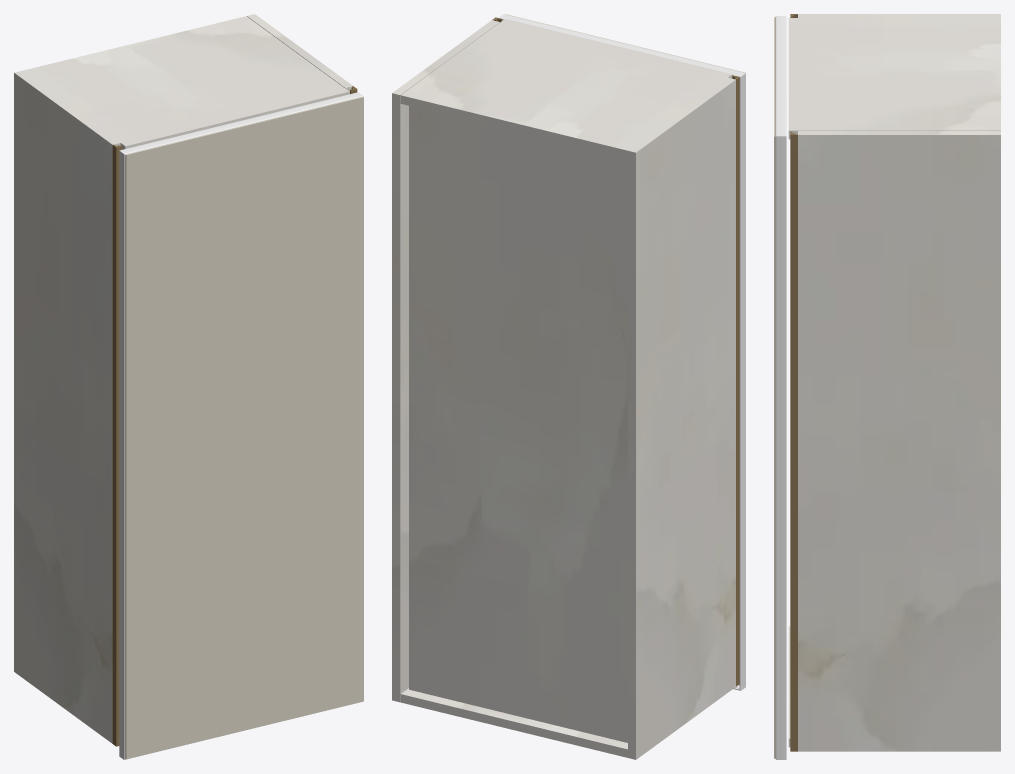
The picture shows the model from 3 angles, left to right: view 1: azimuth 30°, elevation 25°; view 2: azimuth 150°, elevation 25°; view 3: azimuth 270°, elevation 25°; orthographic projection. The views are drawn at different scales.
Size of what is drawn, in the model's own units: 0.45 by 1.09 by 0.3569.
7 materials, 2 textured.
